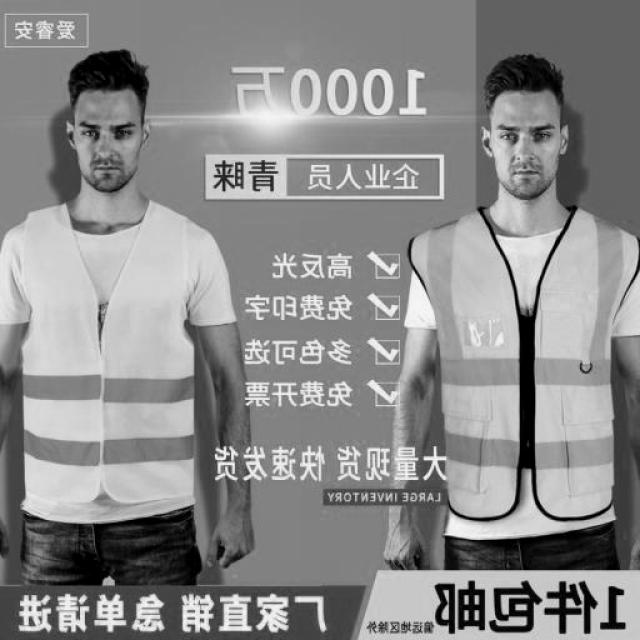face_nomask: (492, 116, 562, 190), (74, 116, 142, 182)
hand_noglove: (200, 500, 260, 572), (379, 508, 438, 574)
head_nohelmet: (66, 42, 156, 104), (482, 50, 568, 104)
person: (0, 46, 263, 585), (375, 53, 640, 573)
vest: (409, 205, 640, 521), (11, 203, 200, 501)
